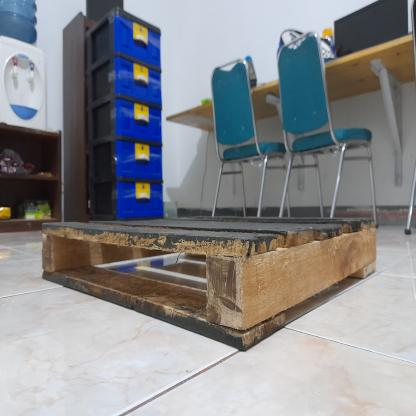Wooden-Pallet: (41, 210, 382, 357)
